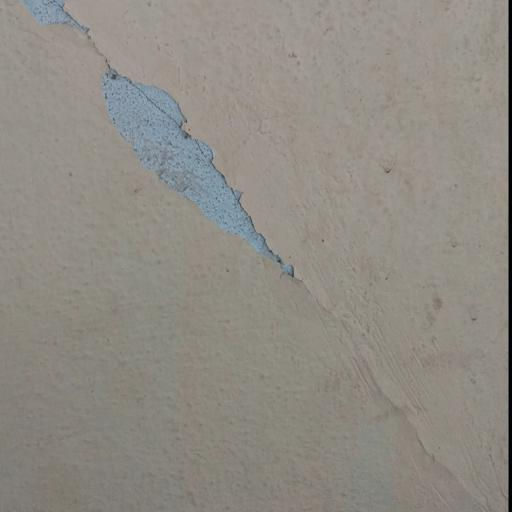peeling: (84, 48, 311, 302), (20, 0, 97, 42)
